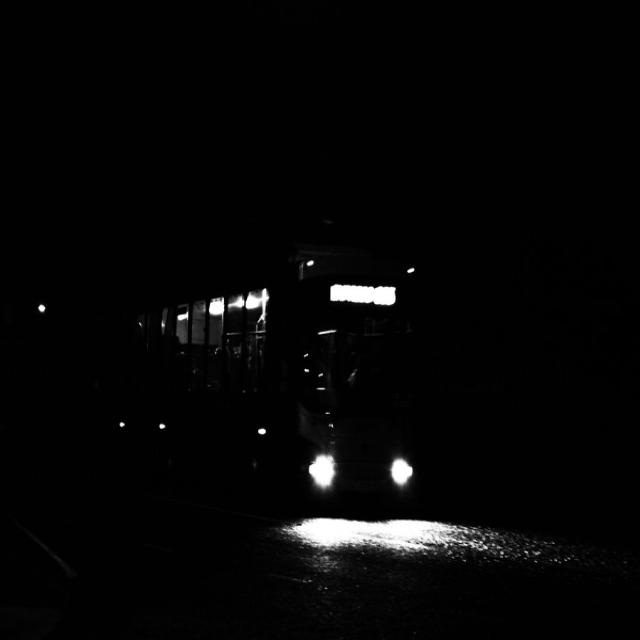Bus: (49, 204, 425, 544)
